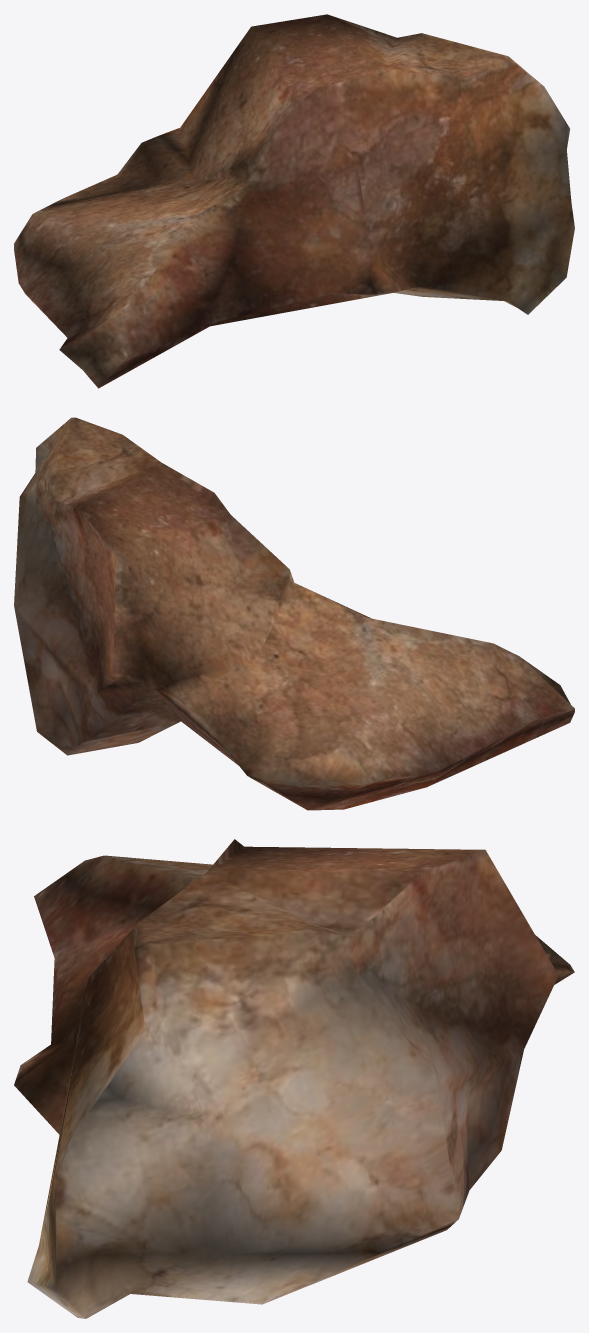
Rendered from rock-stone-01.glb.
3 views of the same model, one above another, from view 1: azimuth 30°, elevation 25°; view 2: azimuth 150°, elevation 25°; view 3: azimuth 270°, elevation 25° (orthographic). The views are drawn at different scales.
Visible parts, largest first — view 1: stone_01; view 2: stone_01; view 3: stone_01.
Part boxes in pixels (bbox=[...]): stone_01: bbox=[14, 14, 574, 388]; stone_01: bbox=[14, 417, 574, 810]; stone_01: bbox=[14, 839, 574, 1318].
Size of the model in its own units: 0.145 by 0.0696 by 0.0886.
Materials: 1 (1 with a texture image).
